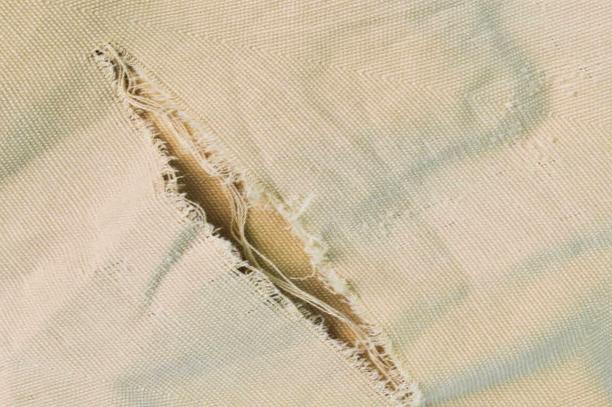hole: (87, 36, 430, 407)
